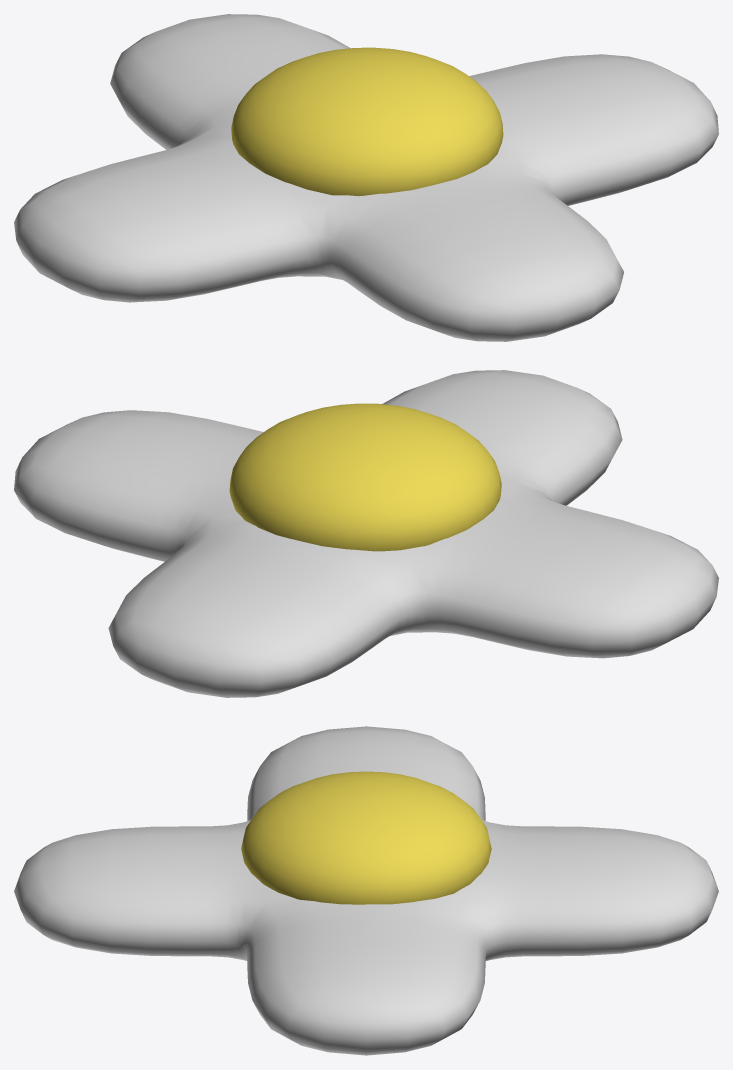
The model's file is flower.fbx.
3 renders of one model, top to bottom at view 1: azimuth 30°, elevation 25°; view 2: azimuth 150°, elevation 25°; view 3: azimuth 270°, elevation 25°, orthographic. The views are drawn at different scales.
Visible parts, largest first — view 1: flower; view 2: flower; view 3: flower.
Boxes of the visible parts, x1,y1,x2,y2 form: flower: (14, 14, 718, 341); flower: (14, 370, 718, 697); flower: (14, 726, 718, 1055).
Bounding box in the file's own units: 125 × 27.38 × 124.
